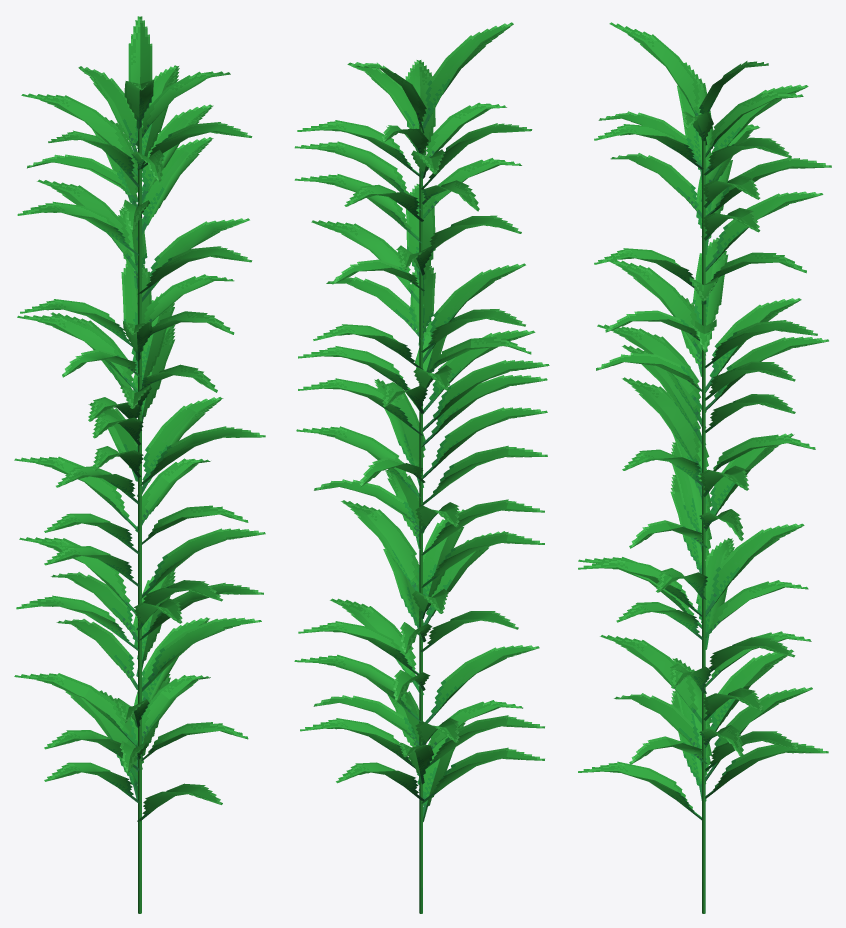
The model's file is haicao.fbx.
3 views of the same model, side by side, from view 1: azimuth 30°, elevation 25°; view 2: azimuth 150°, elevation 25°; view 3: azimuth 270°, elevation 25° (orthographic).
Visible parts, largest first — view 1: 柱体.014; view 2: 柱体.014; view 3: 柱体.014.
Part boxes in pixels (bbox=[...]): 柱体.014: bbox=[14, 16, 265, 913]; 柱体.014: bbox=[294, 22, 549, 913]; 柱体.014: bbox=[578, 22, 831, 913].
Bounding box in the file's own units: 129 × 486 × 128.
Materials: 3 (3 with a texture image).
